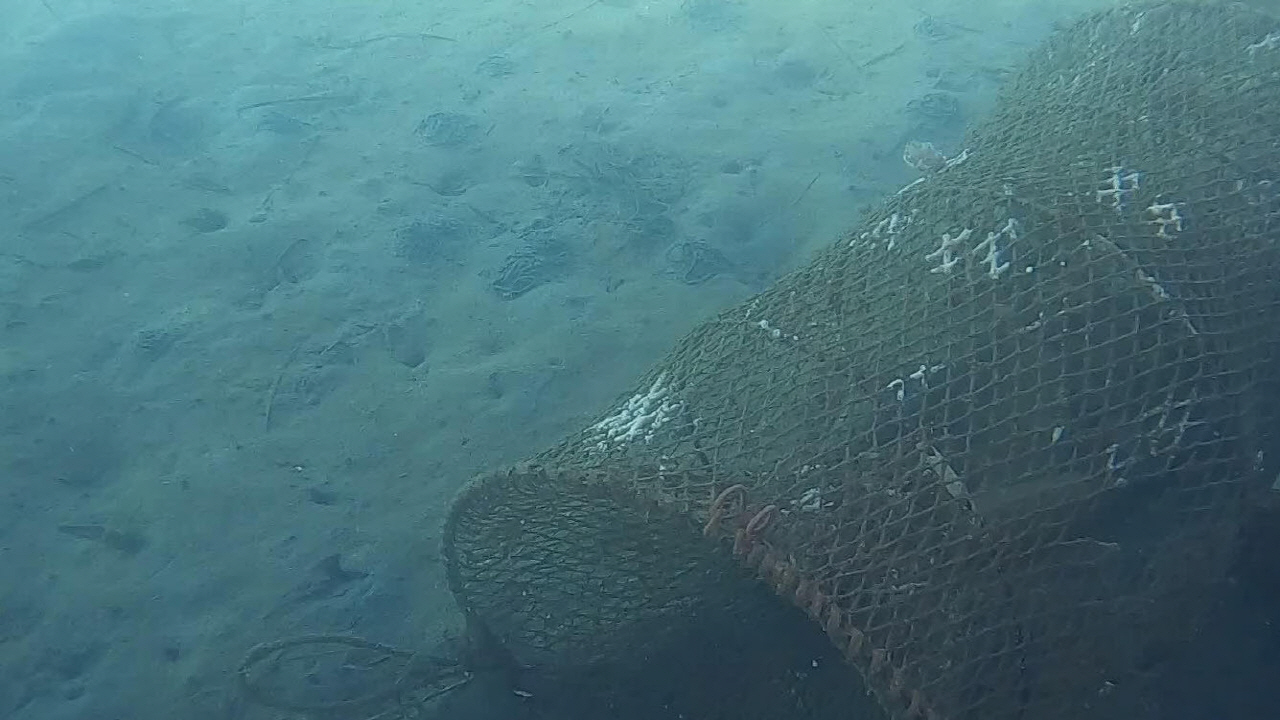rope: (233, 631, 471, 715)
spring fish trap: (438, 0, 1280, 720)
